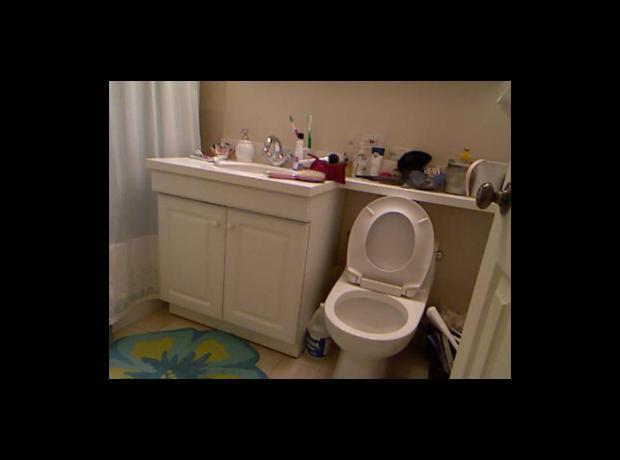Lavamanos: (206, 131, 308, 202)
Sanitario: (318, 193, 444, 376)
